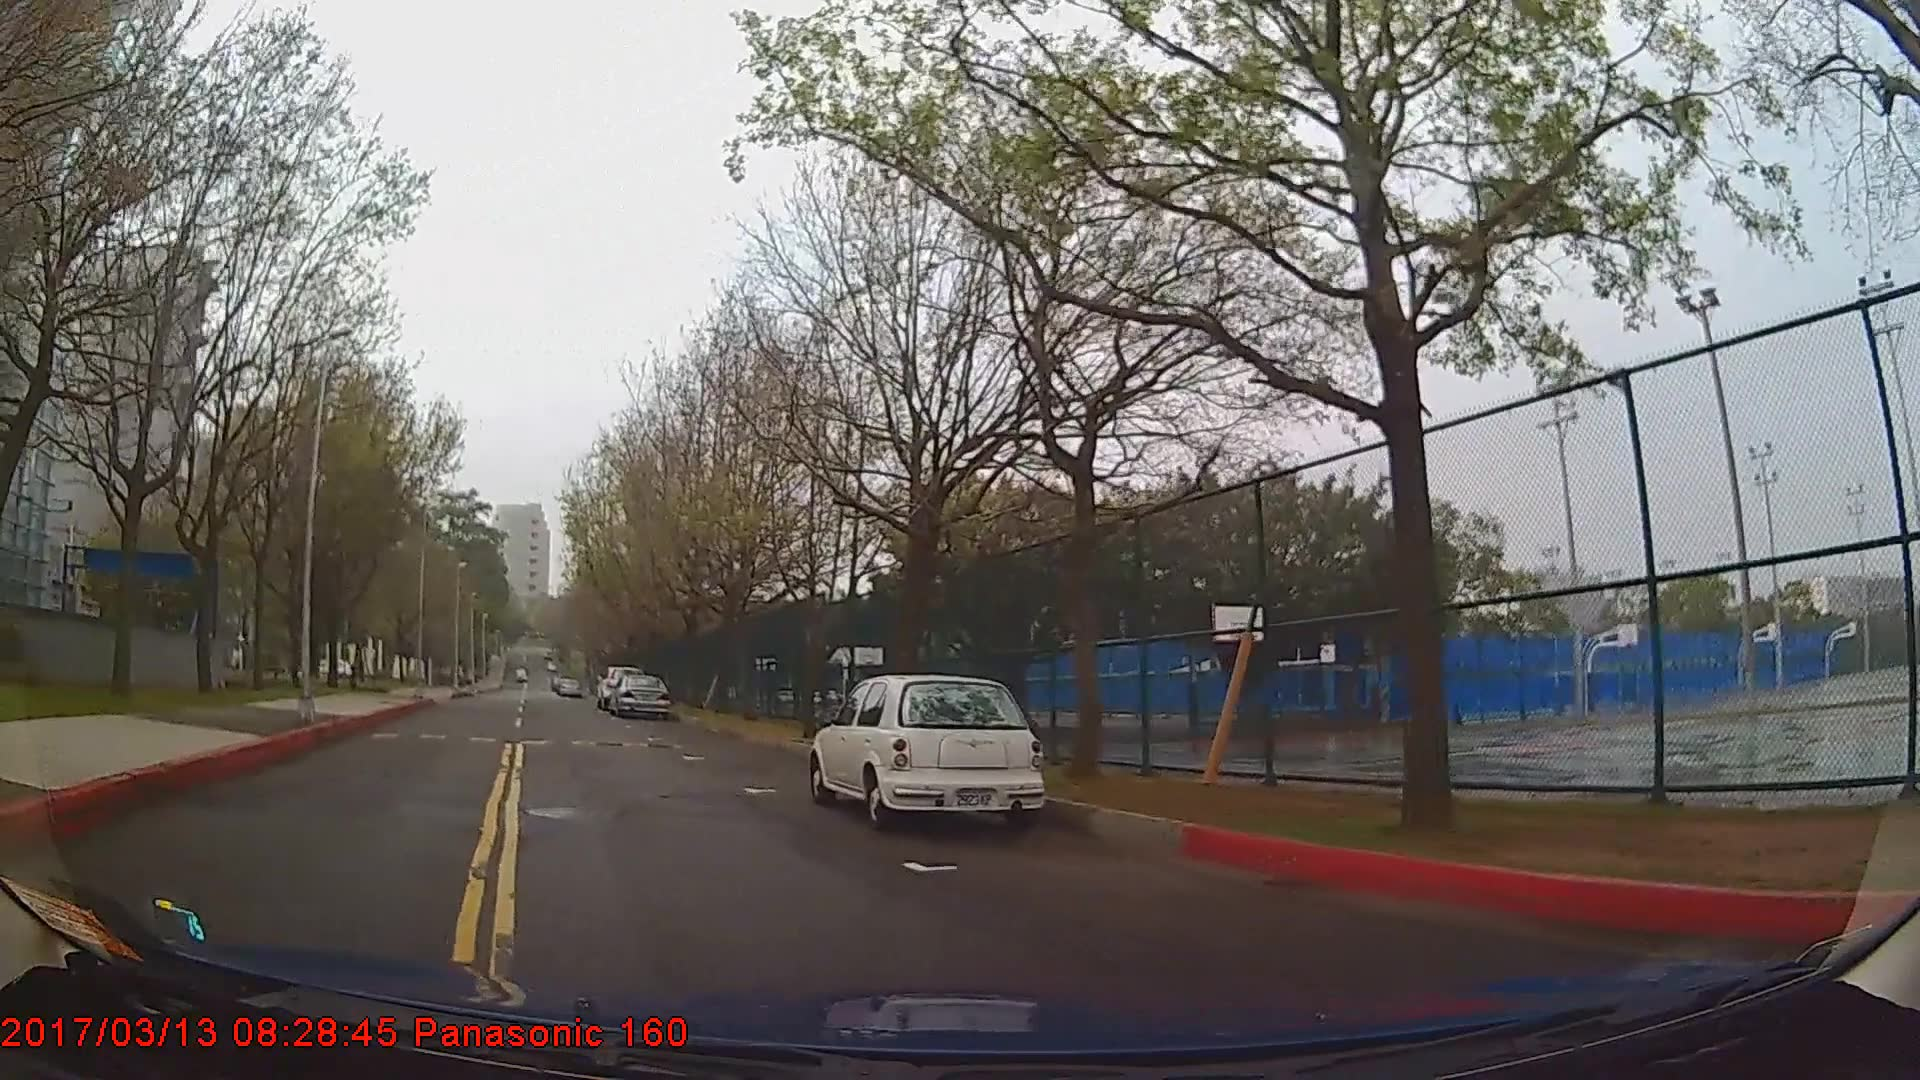vehicle: (806, 673, 1046, 828), (612, 673, 670, 715)
